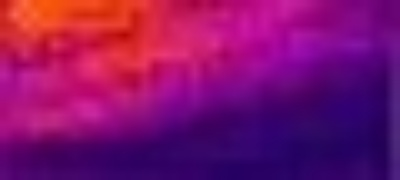Shadow: (1, 114, 400, 180), (181, 1, 400, 115)
